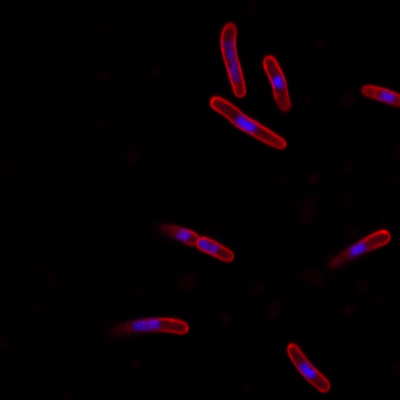Nalidixate: (208, 94, 286, 150), (283, 340, 332, 394), (217, 21, 248, 99), (259, 52, 292, 113)
Oblique: (155, 220, 236, 264), (329, 228, 394, 270), (102, 315, 191, 337)
